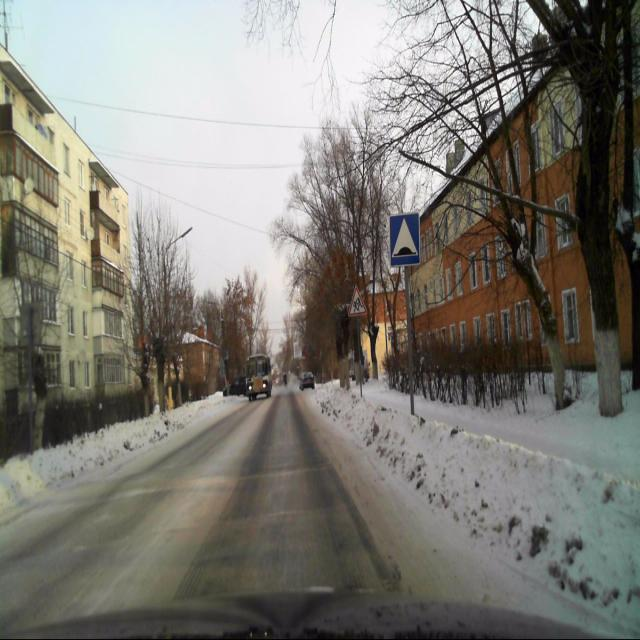object: (404, 268, 416, 418)
road sign: (390, 212, 420, 266), (348, 285, 367, 316)
